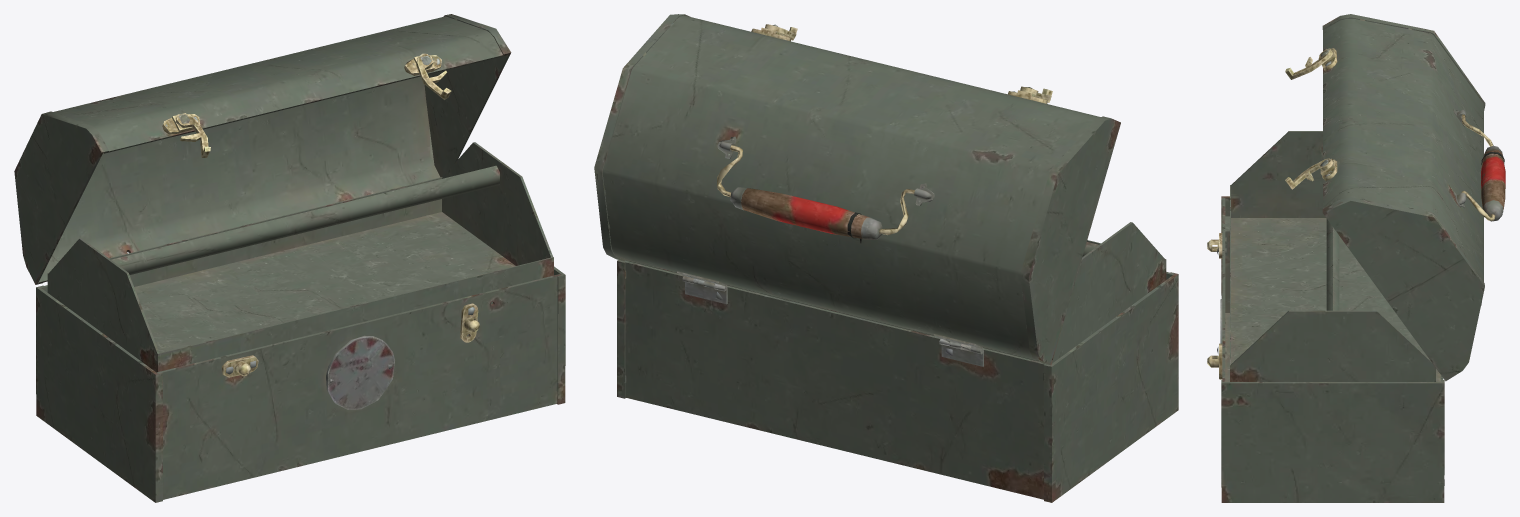
File: metal_toolbox.glb
3 views of the same model, side by side, from view 1: azimuth 30°, elevation 25°; view 2: azimuth 150°, elevation 25°; view 3: azimuth 270°, elevation 25° (orthographic). The views are drawn at different scales.
Parts seen in each view (by area): view 1: metal_toolbox; view 2: metal_toolbox; view 3: metal_toolbox.
Part boxes in pixels (x1,y1,x2,y2): metal_toolbox: (14, 14, 565, 502); metal_toolbox: (594, 14, 1178, 502); metal_toolbox: (1207, 14, 1505, 502).
Size of the model in its own units: 0.4 by 0.3047 by 0.2702.
Materials: 1 (1 with a texture image).
